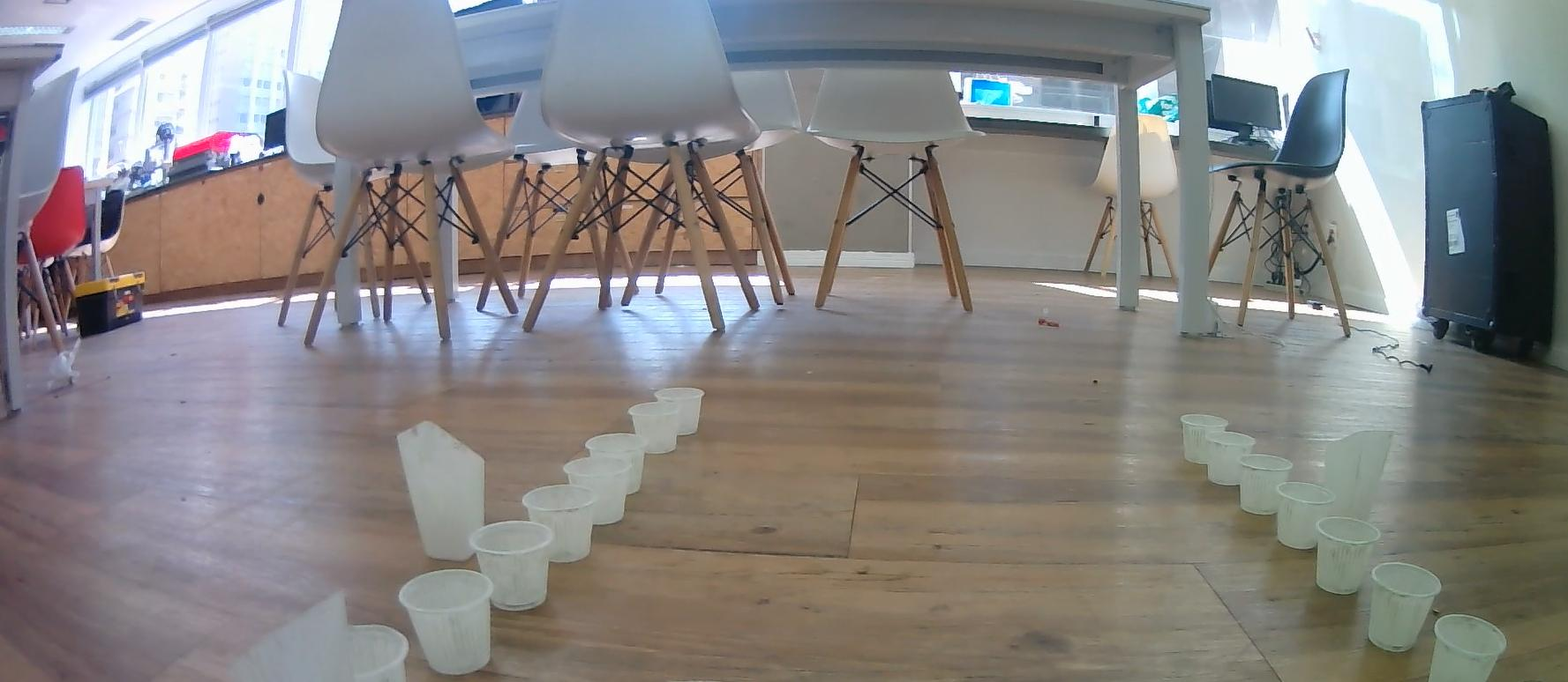erva_daninha: (214, 590, 356, 682), (396, 420, 486, 561), (1326, 429, 1392, 521)
planta: (398, 568, 496, 676), (468, 520, 553, 612), (1366, 561, 1442, 653), (521, 484, 596, 564), (1427, 613, 1509, 682), (1316, 515, 1382, 596), (563, 456, 631, 525), (1277, 480, 1338, 551), (584, 433, 649, 495), (343, 624, 409, 682), (1238, 453, 1295, 515), (627, 401, 681, 455), (1206, 431, 1257, 486), (1180, 413, 1230, 464), (654, 387, 705, 436)
